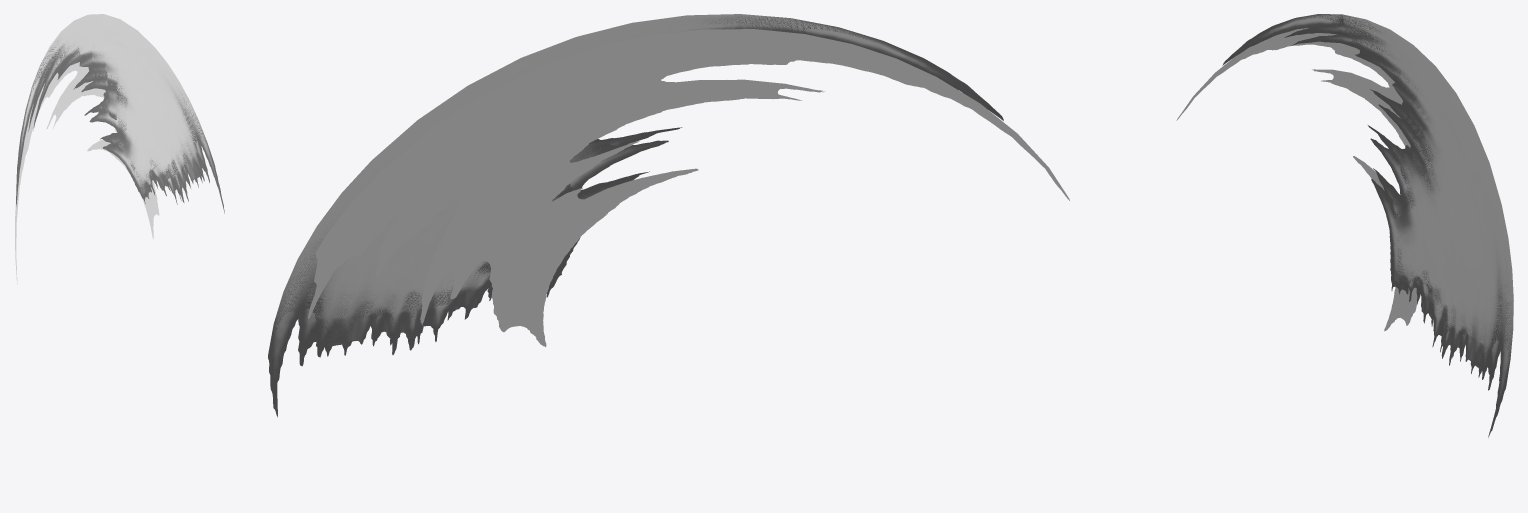
The model's file is fx_cookie0002_skill01.fbx.
3 views of the same model, side by side, from view 1: azimuth 30°, elevation 25°; view 2: azimuth 150°, elevation 25°; view 3: azimuth 270°, elevation 25° (orthographic). The views are drawn at different scales.
Parts seen in each view (by area): view 1: L_scratch, L_scratch2; view 2: L_scratch2, L_scratch; view 3: L_scratch, L_scratch2.
Boxes of the visible parts, x1,y1,x2,y2 form: L_scratch: (16, 14, 224, 213); L_scratch2: (15, 62, 159, 284); L_scratch2: (308, 29, 1069, 346); L_scratch: (268, 14, 1003, 417); L_scratch: (1222, 14, 1513, 437); L_scratch2: (1176, 28, 1420, 331).
Bounding box in the file's own units: 278 × 268 × 235.
